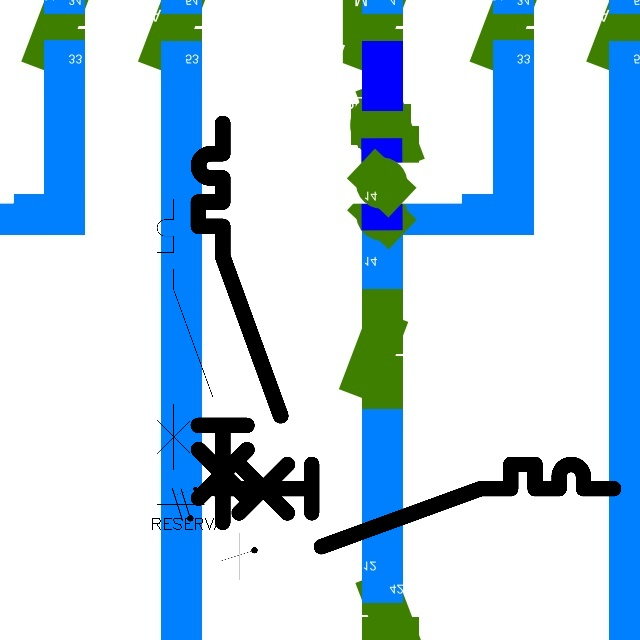interruptor_termomagnetico: (204, 454, 624, 556), (188, 113, 290, 533), (150, 192, 219, 477)
